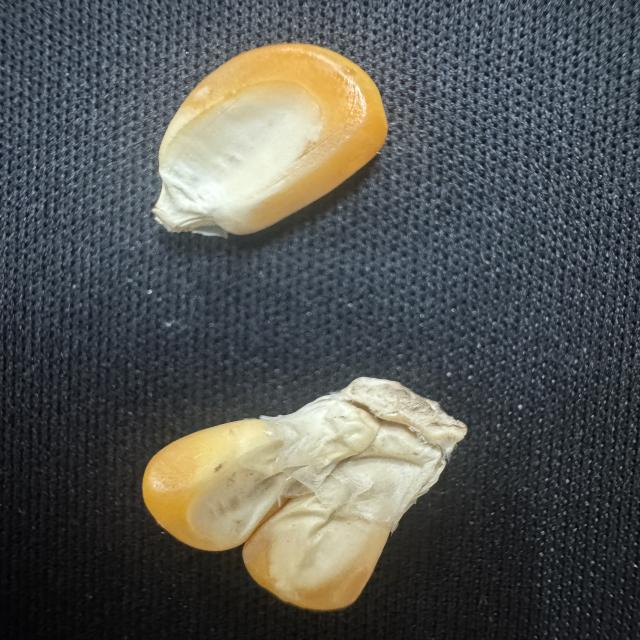Bad-Seed: (136, 371, 473, 614)
Good-Seed: (144, 36, 397, 248)
